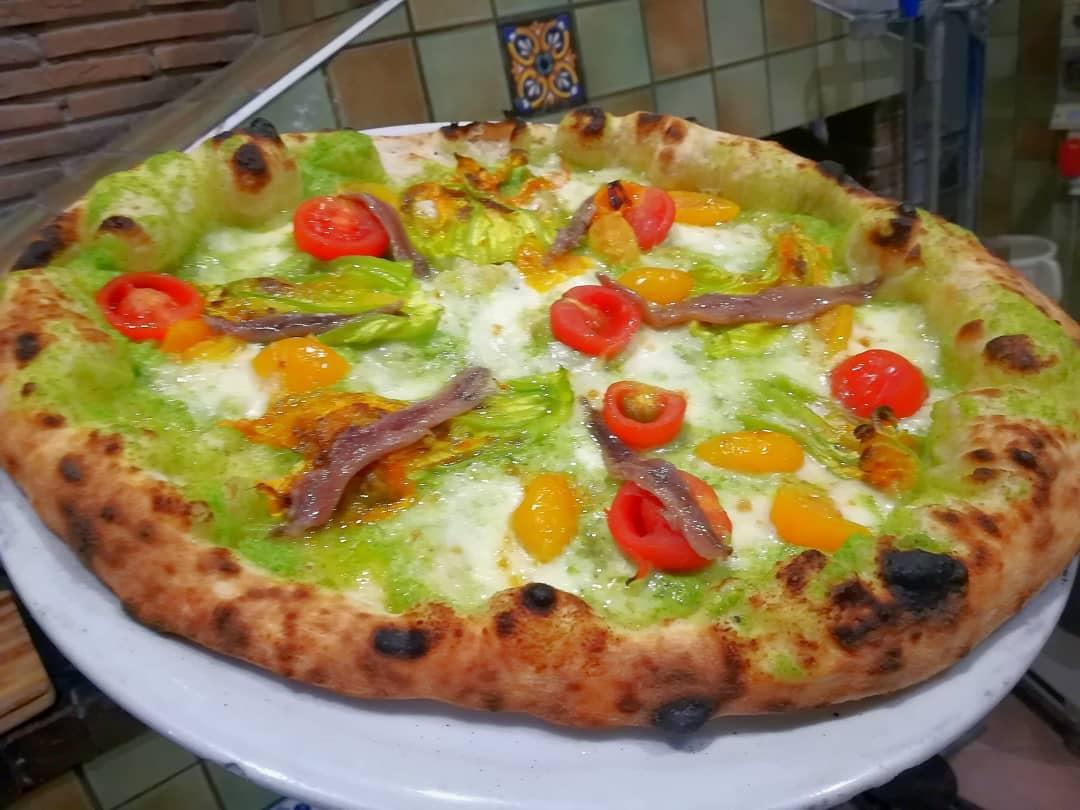Bacon: (291, 367, 496, 531), (658, 261, 871, 334)
Pizza: (8, 114, 1080, 714)
Tomatoes: (94, 261, 214, 347), (607, 487, 704, 574), (254, 414, 414, 465), (508, 468, 581, 576), (594, 374, 687, 449), (264, 314, 345, 398), (584, 174, 667, 252), (776, 481, 874, 544), (288, 194, 387, 256), (551, 284, 632, 349), (708, 421, 792, 476), (848, 351, 923, 409)
